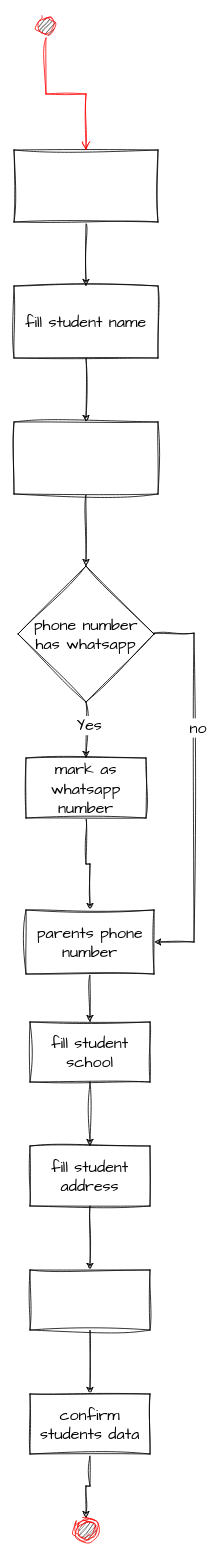
Some shapes in this 220 by 1556 pixel diagram are drawn without their labels. The shapes that lost their labels are listed below. From the top down, each one's centre as x and y in pixels, then its label:
(x=85, y=185): ta open create student window
(x=85, y=457): phone number
(x=89, y=1299): fill student dateOfBirth
